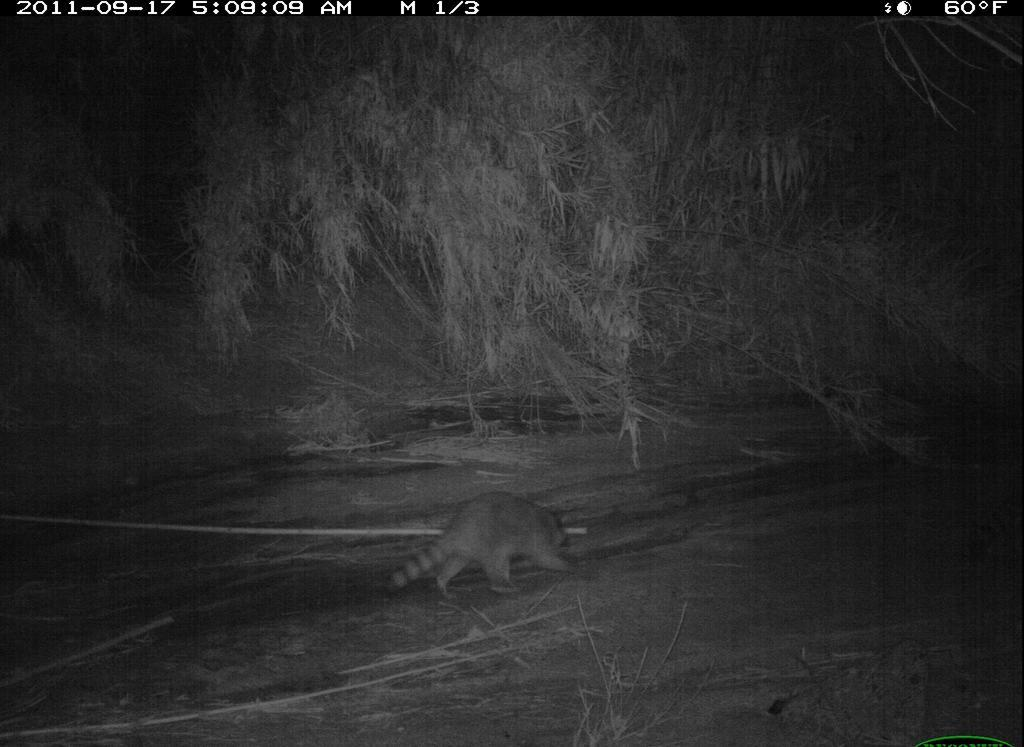raccoon: (368, 492, 705, 617)
